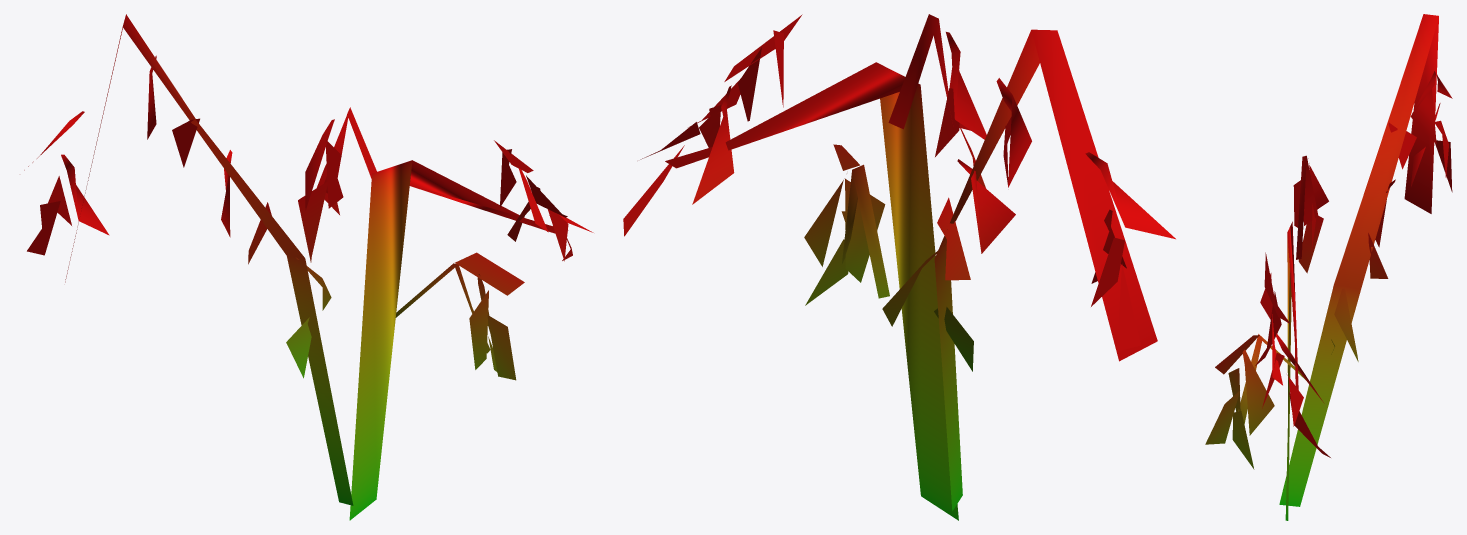
File: Var6_LOD2.fbx
3 views of the same model, side by side, from view 1: azimuth 30°, elevation 25°; view 2: azimuth 150°, elevation 25°; view 3: azimuth 270°, elevation 25° (orthographic). The views are drawn at different scales.
Parts seen in each view (by area): view 1: _e83c_Var6_LOD2; view 2: _e83c_Var6_LOD2; view 3: _e83c_Var6_LOD2.
Part boxes in pixels (x1,y1,x2,y2): _e83c_Var6_LOD2: (24,14,593,520); _e83c_Var6_LOD2: (623,14,1175,520); _e83c_Var6_LOD2: (1205,14,1452,520).
Bounding box in the file's own units: 20.73 × 18.92 × 9.61.
